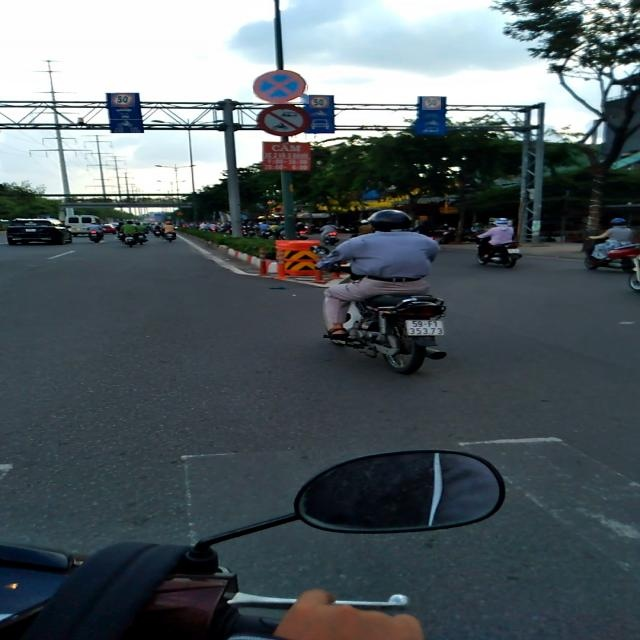bien_chi_dan: (253, 70, 309, 104), (111, 93, 135, 107), (422, 97, 441, 110), (309, 96, 329, 108)
